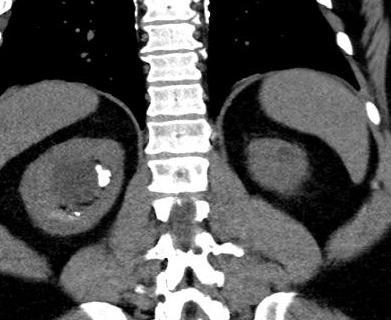Tas_Var: (95, 164, 114, 191), (72, 210, 84, 218)
